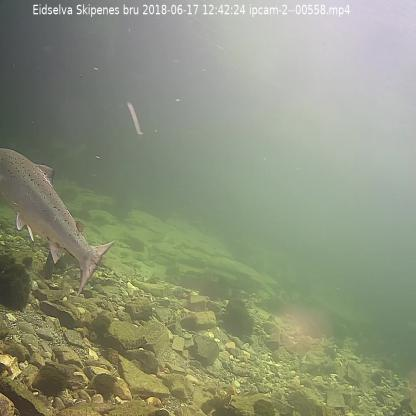salmon: (0, 145, 119, 299)
